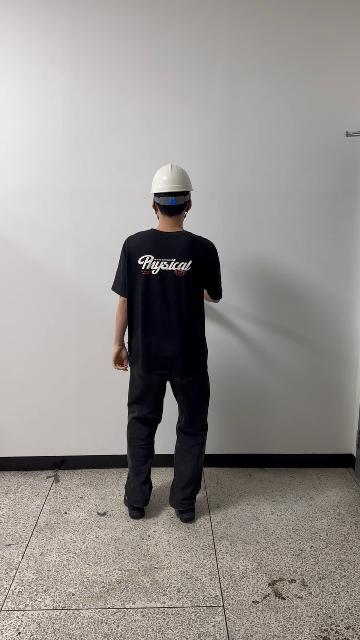helmet_worn: (150, 163, 194, 194)
shoe_worn: (124, 495, 145, 520), (174, 506, 195, 523)
vest_not_worn: (127, 229, 208, 381)
